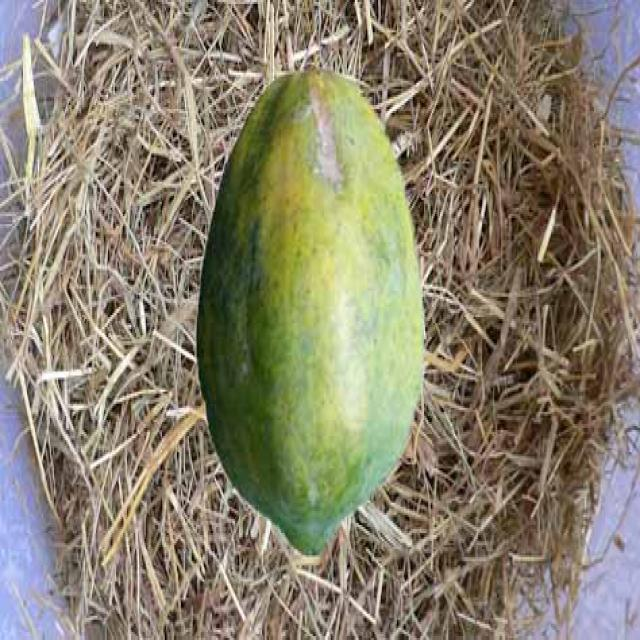Pepaya rippen: (200, 57, 424, 559)
